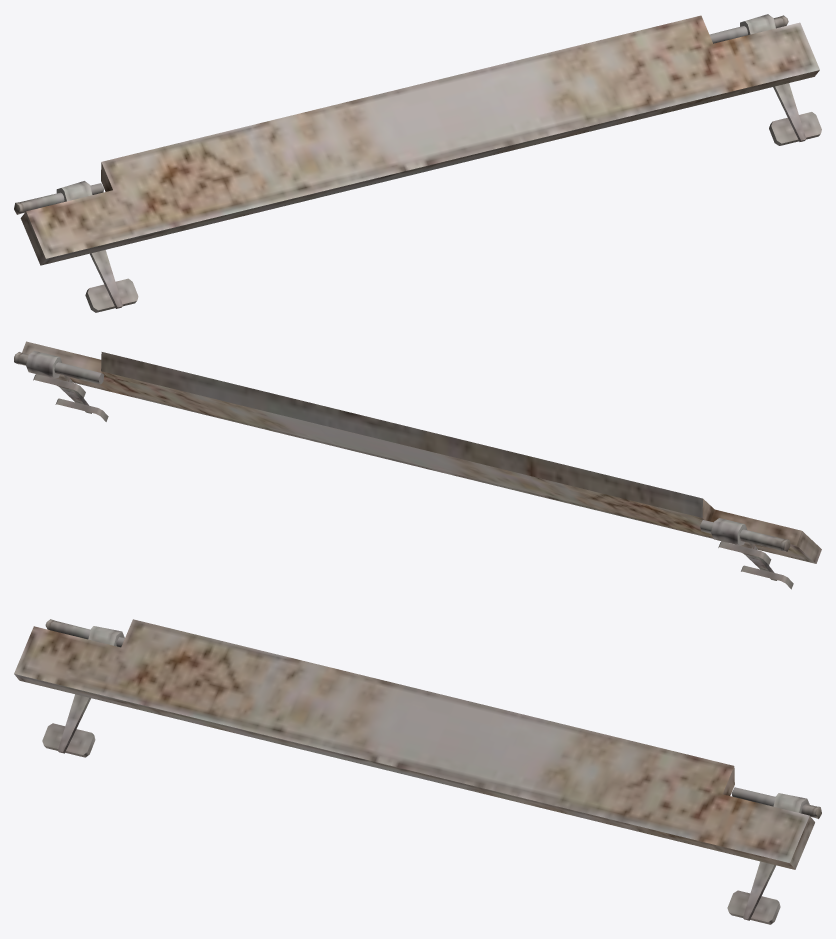
The model's file is roof.container.corner.90.concave.l.top.line.glb.
The picture shows the model from 3 angles, top to bottom: view 1: azimuth 30°, elevation 25°; view 2: azimuth 150°, elevation 25°; view 3: azimuth 330°, elevation 25°; orthographic projection.
Parts seen in each view (by area): view 1: model; view 2: model; view 3: model.
Part boxes in pixels (left/top/right/bottom): model: left=14, top=14, right=821, bottom=312; model: left=14, top=341, right=821, bottom=589; model: left=14, top=619, right=821, bottom=924.
Bounding box in the file's own units: 2.99 × 0.4073 × 0.3444.
Materials: 1 (1 with a texture image).
